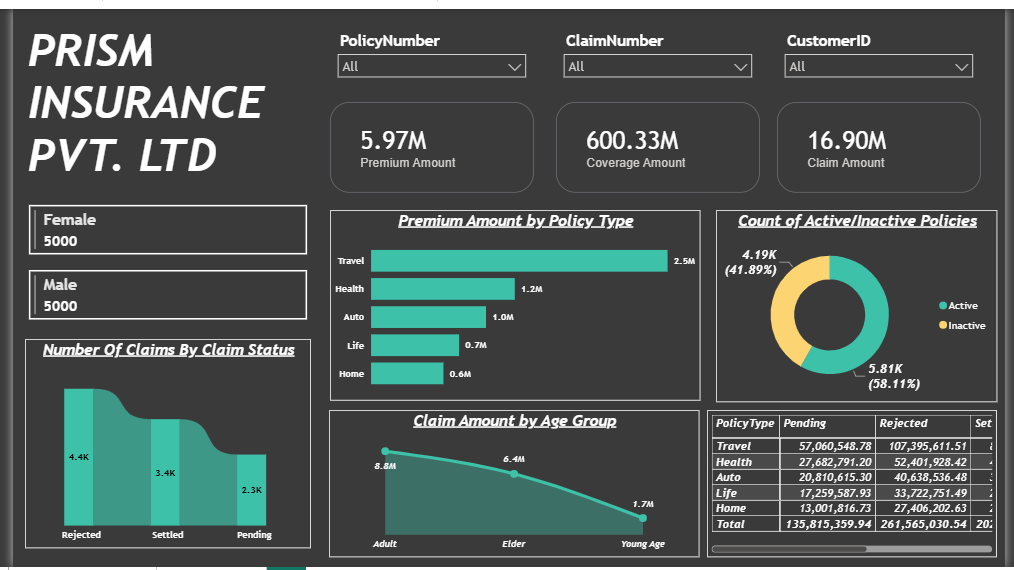

What the dashboard file says about the page in this screenshot:
{"tool":"powerbi","page":{"name":"Insurance Overview","canvas":[1280,720],"ordinal":0},"visuals":[{"type":"slicer","fields":{"Values":["InsuranceData.PolicyNumber"]},"box":[408.5,23.2,263.4,76.8],"z":0},{"type":"slicer","fields":{"Values":["InsuranceData.ClaimNumber"]},"box":[701.2,23.2,263.4,76.8],"z":1000},{"type":"slicer","fields":{"Values":["InsuranceData.CustomerID"]},"box":[985.4,23.2,263.4,76.8],"z":2000},{"type":"textbox","box":[14.6,13.4,369.5,265.9],"z":3000},{"type":"cardVisual","fields":{"Data":["Sum(InsuranceData.PremiumAmount)"]},"box":[408.5,119.5,263.4,117.1],"z":4000},{"type":"cardVisual","fields":{"Data":["Sum(InsuranceData.CoverageAmount)"]},"box":[701.2,119.5,263.4,117.1],"z":5000},{"type":"cardVisual","fields":{"Data":["Sum(InsuranceData.ClaimAmount)"]},"box":[985.4,119.5,263.4,117.1],"z":6000},{"type":"multiRowCard","fields":{"Values":["InsuranceData.Gender","CountNonNull(InsuranceData.Gender)"]},"box":[15.1,247.7,368.9,177.5],"z":7000},{"type":"ribbonChart","title":"Number Of Claims By Claim Status","fields":{"Category":["InsuranceData.ClaimStatus"],"Y":["CountNonNull(InsuranceData.ClaimStatus)"]},"box":[15.1,425.3,368.9,269.8],"z":8000},{"type":"barChart","title":"Premium Amount by Policy Type","fields":{"Category":["InsuranceData.PolicyType"],"Y":["Sum(InsuranceData.PremiumAmount)"]},"box":[408.8,258.8,477.6,246.4],"z":9000},{"type":"lineChart","title":"Claim Amount by Age Group","fields":{"Category":["InsuranceData.Age Group"],"Y":["Sum(InsuranceData.ClaimAmount)"]},"box":[408.2,517.3,477.6,189.9],"z":10000},{"type":"donutChart","title":"Count of Active/Inactive Policies","fields":{"Category":["InsuranceData.Active/Inactive"],"Y":["CountNonNull(InsuranceData.Active/Inactive)"]},"box":[907,258.8,363.4,247.7],"z":11000},{"type":"pivotTable","fields":{"Columns":["InsuranceData.ClaimStatus"],"Rows":["InsuranceData.PolicyType"],"Values":["Sum(InsuranceData.CoverageAmount)"]},"box":[896,517.5,374.4,189.9],"z":12000}]}

Visuals, with their boxes in screenshot pixels (x1, y1, x2, y2), scaled from the page's 1280x720 canvas onto the 1014x570 screenshot:
slicer - InsuranceData.PolicyNumber: pyautogui.locateOnScreen(324, 18, 532, 79)
slicer - InsuranceData.ClaimNumber: pyautogui.locateOnScreen(555, 18, 764, 79)
slicer - InsuranceData.CustomerID: pyautogui.locateOnScreen(781, 18, 989, 79)
textbox: pyautogui.locateOnScreen(12, 11, 304, 221)
cardVisual - Sum(InsuranceData.PremiumAmount): pyautogui.locateOnScreen(324, 95, 532, 187)
cardVisual - Sum(InsuranceData.CoverageAmount): pyautogui.locateOnScreen(555, 95, 764, 187)
cardVisual - Sum(InsuranceData.ClaimAmount): pyautogui.locateOnScreen(781, 95, 989, 187)
multiRowCard - InsuranceData.Gender x CountNonNull(InsuranceData.Gender): pyautogui.locateOnScreen(12, 196, 304, 337)
"Number Of Claims By Claim Status" ribbonChart: pyautogui.locateOnScreen(12, 337, 304, 550)
"Premium Amount by Policy Type" barChart: pyautogui.locateOnScreen(324, 205, 702, 400)
"Claim Amount by Age Group" lineChart: pyautogui.locateOnScreen(323, 410, 702, 560)
"Count of Active/Inactive Policies" donutChart: pyautogui.locateOnScreen(719, 205, 1006, 401)
pivotTable - InsuranceData.ClaimStatus x InsuranceData.PolicyType: pyautogui.locateOnScreen(710, 410, 1006, 560)
